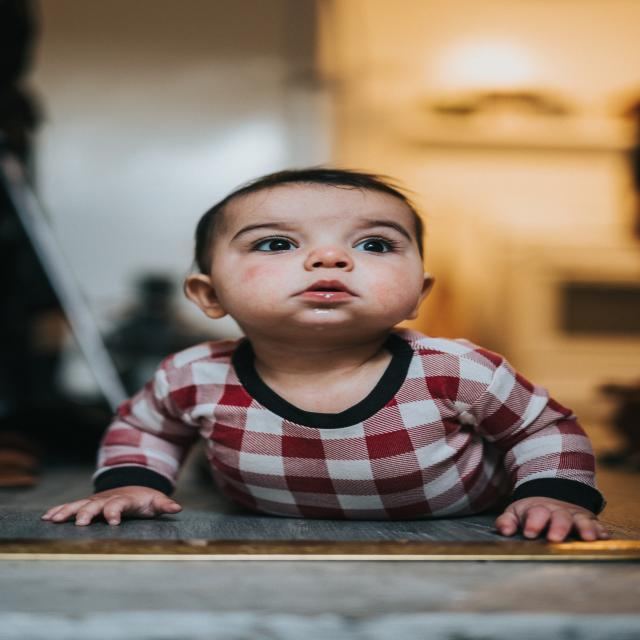non-dog: (42, 164, 615, 545)
